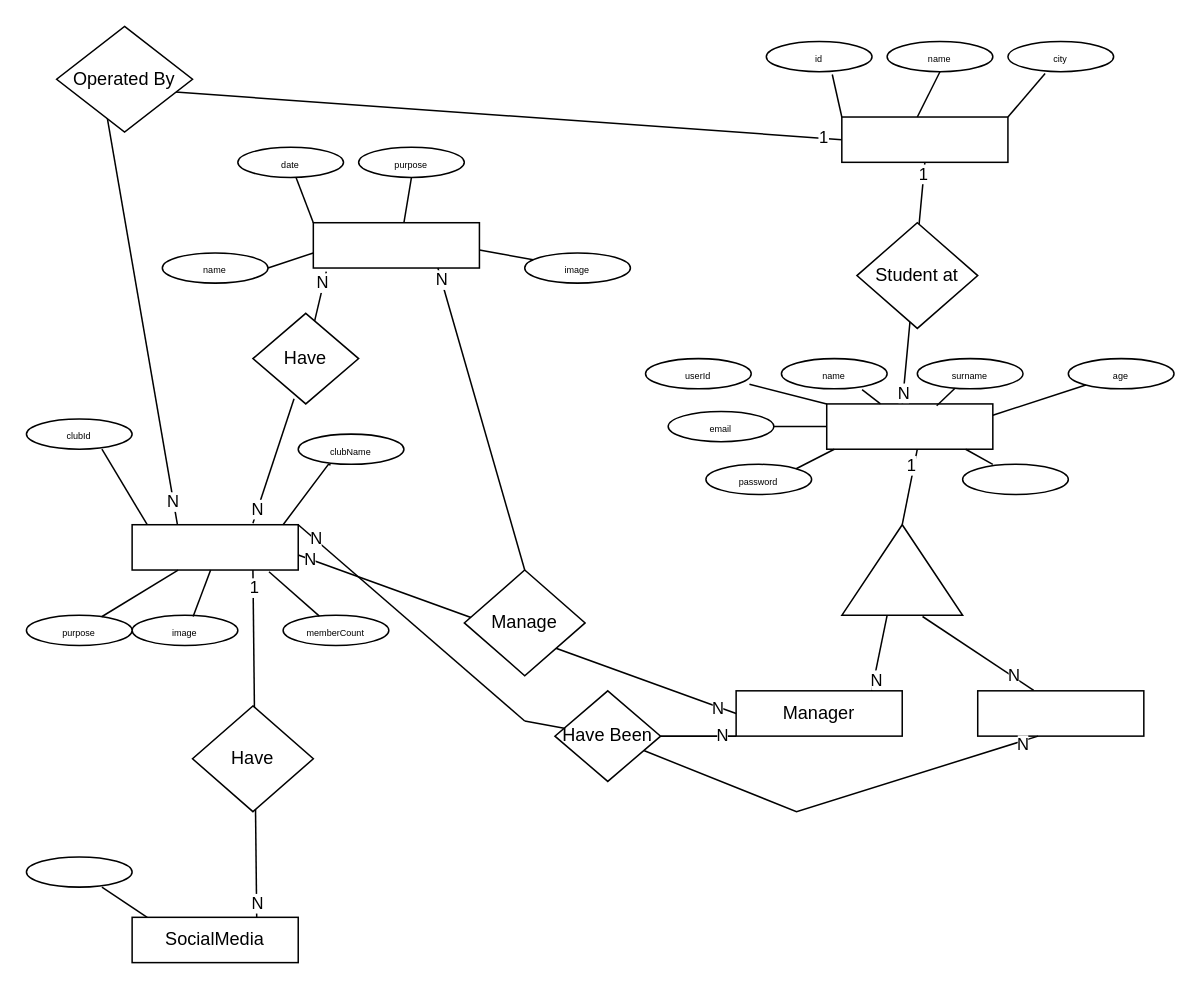
This 1200x989 diagram has some shape labels left out. Each missing label, with the centre of its shape:
"academicYear" belongs at (1014,479).
"Activity" belongs at (395,244).
"Club" belongs at (214,546).
"Is a" belongs at (901,569).
"Member" belongs at (1060,712).
"socialMediaUrl" belongs at (78,871).
"University" belongs at (924,139).
"User" belongs at (909,425).
